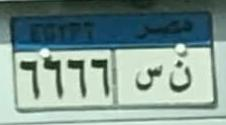6: (18, 59, 42, 99), (66, 57, 88, 99), (43, 59, 65, 100), (91, 57, 112, 99)
noon: (168, 59, 194, 96)
seen: (135, 62, 163, 95)
